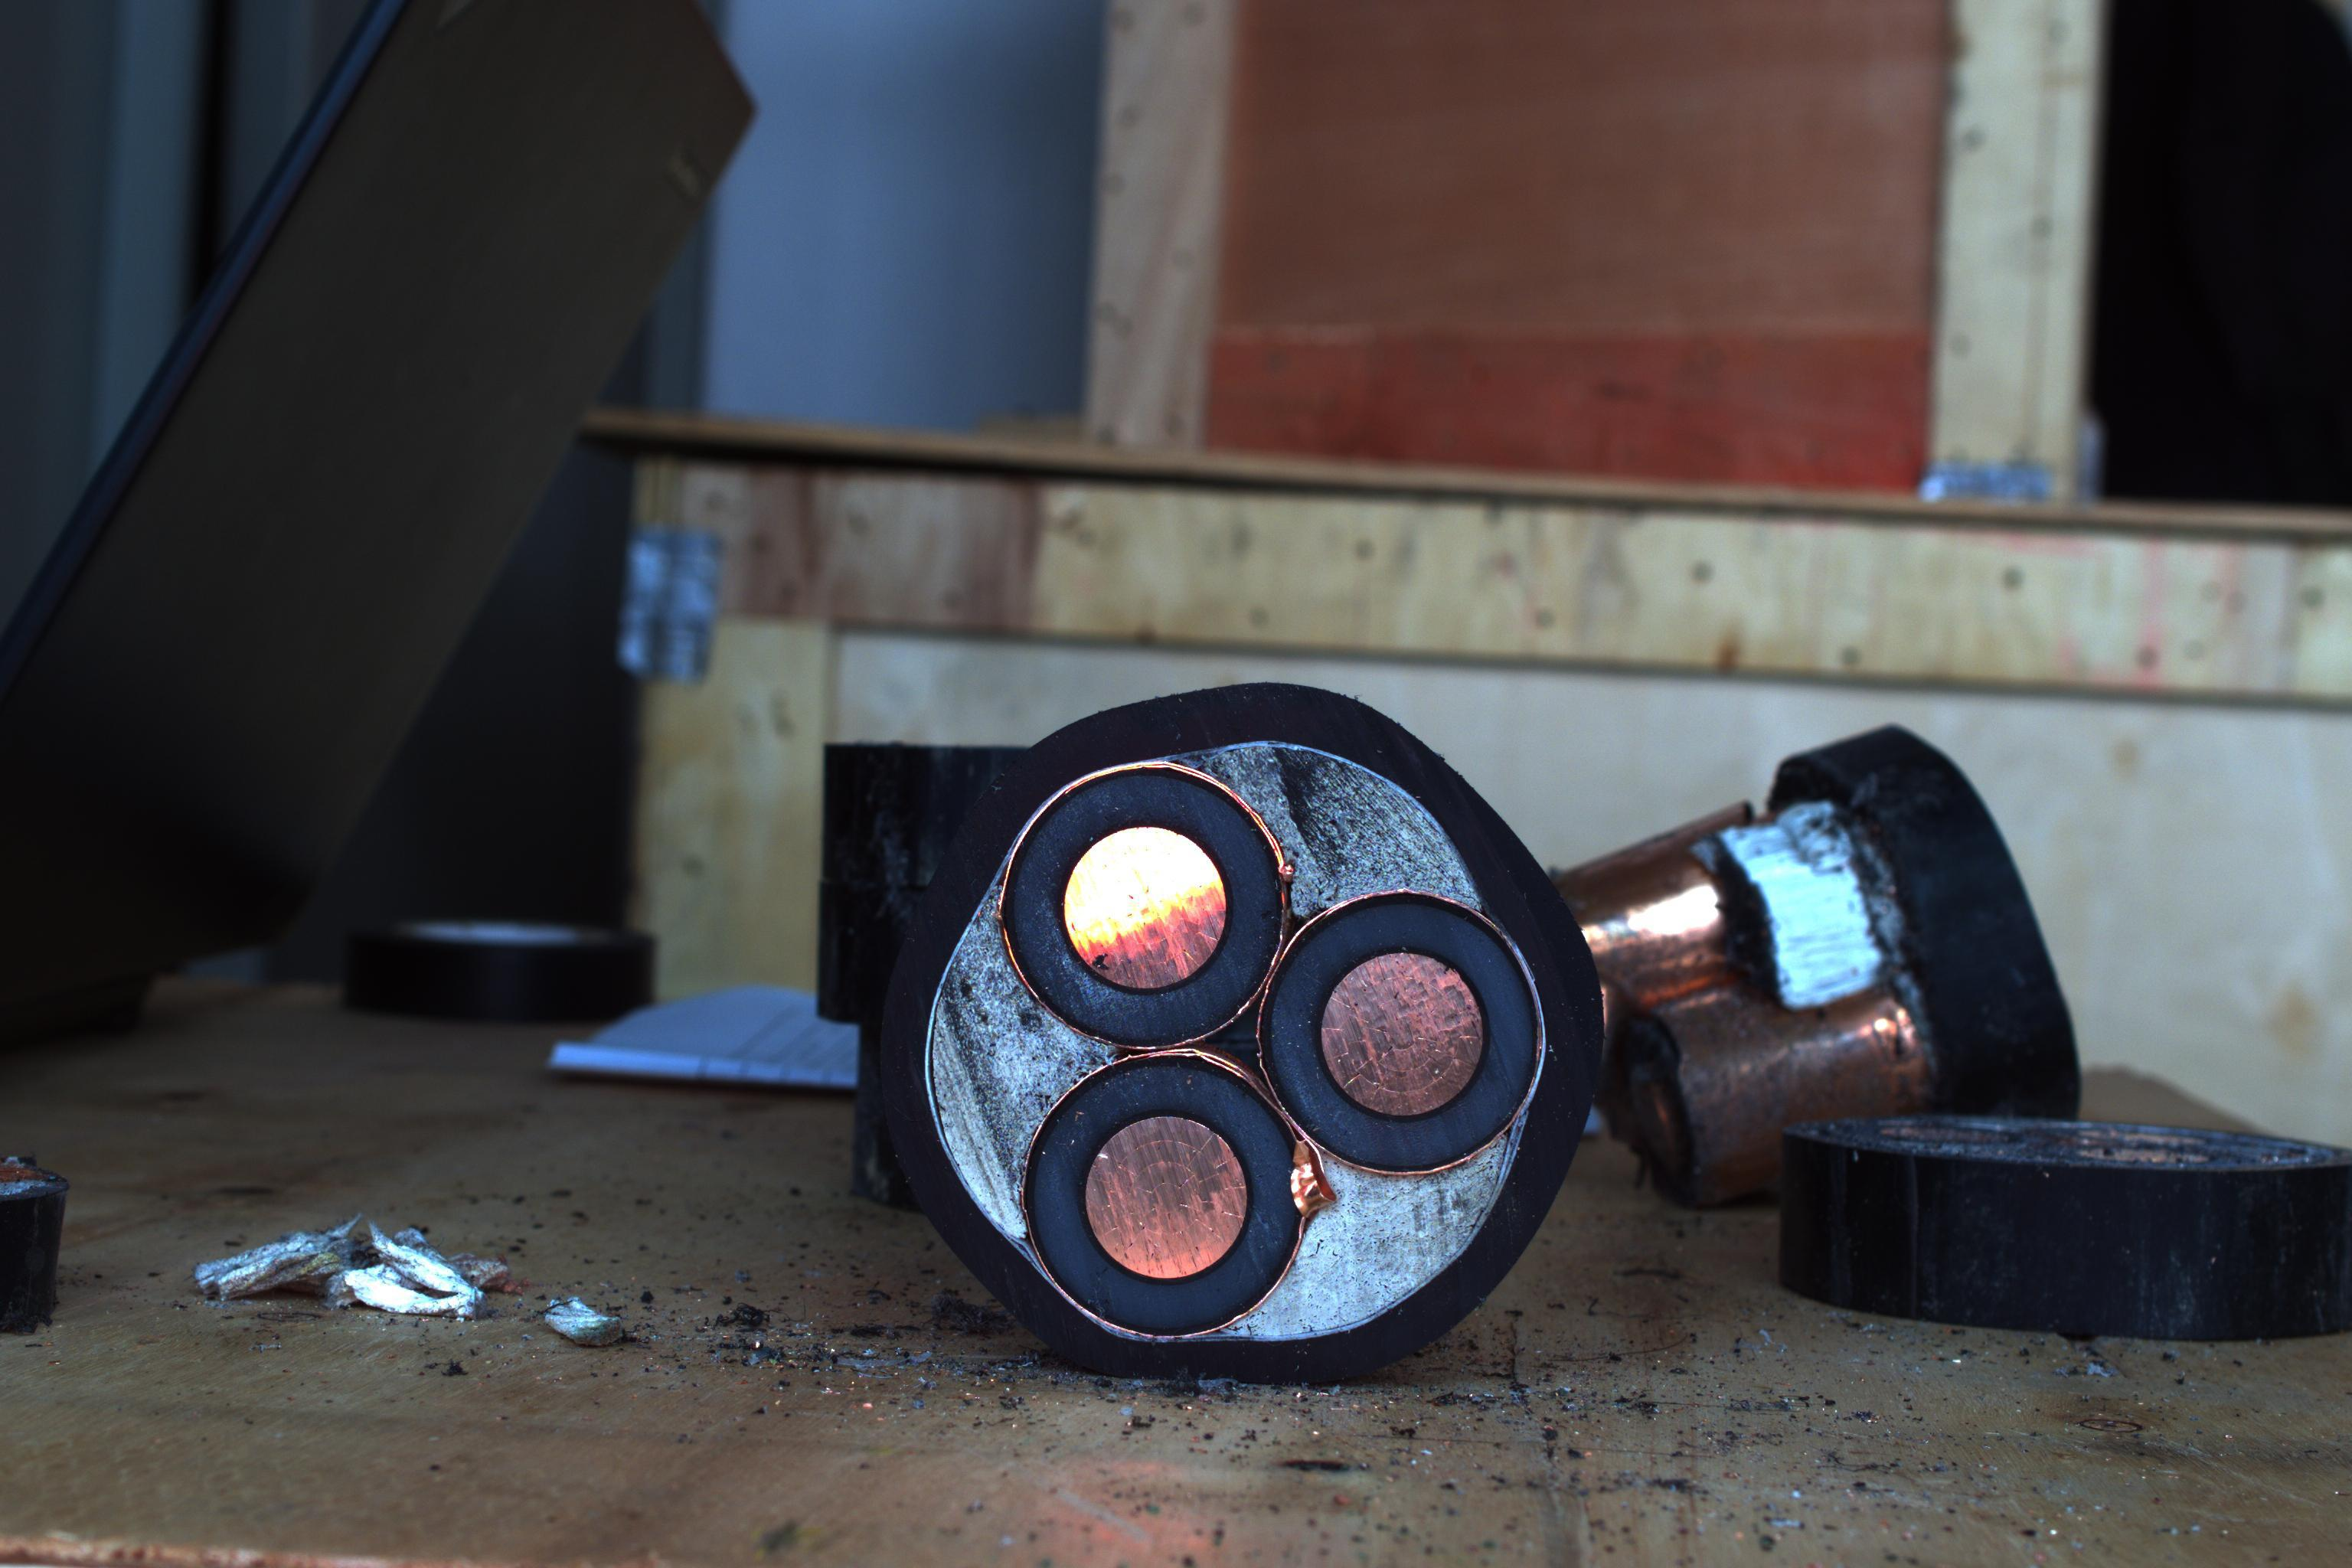ZA_YJV_8.7_10kV_3x240: (892, 724, 1582, 1368)
